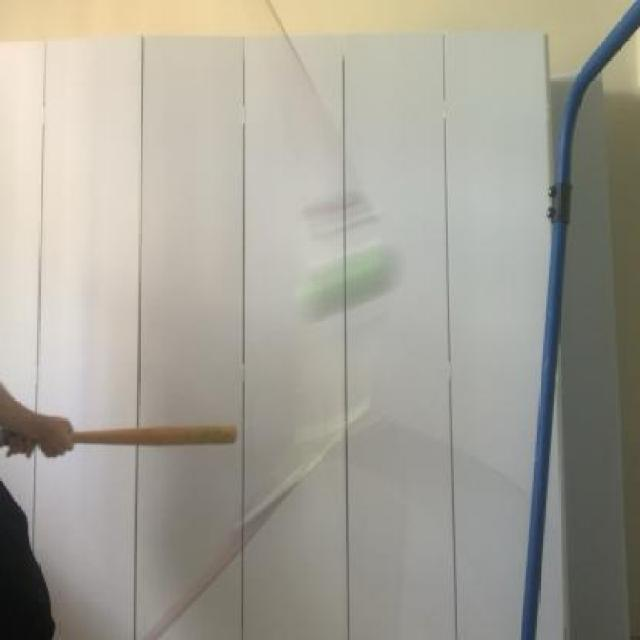baseball: (288, 238, 404, 313)
